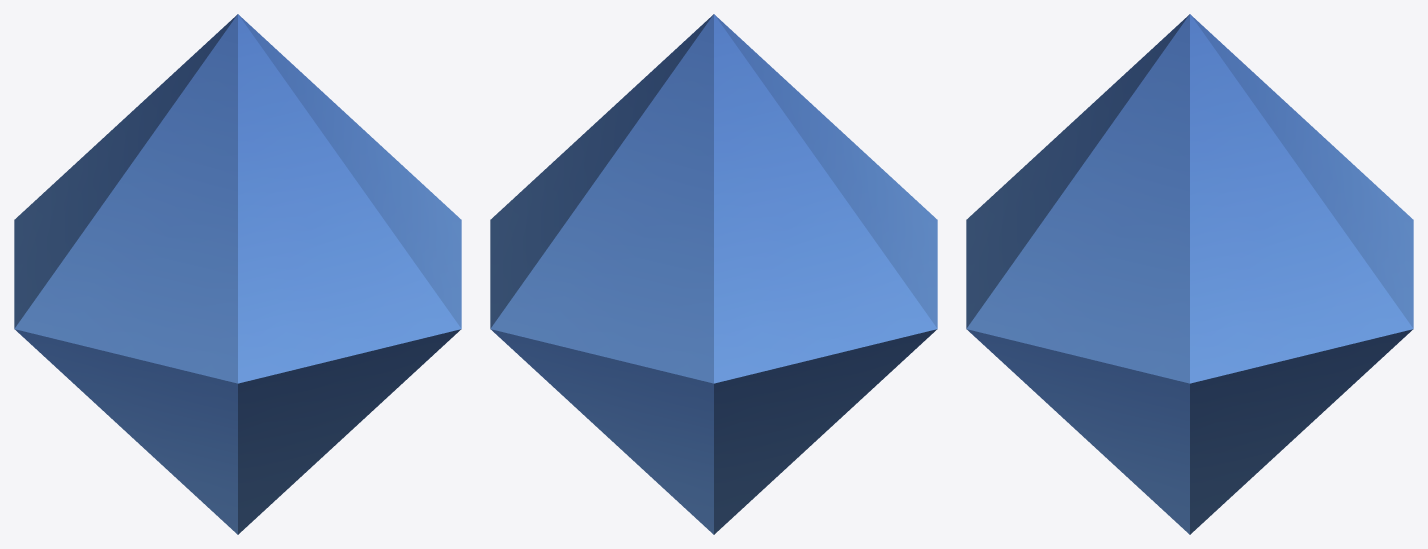
Rendered from jewel.glb.
The picture shows the model from 3 angles, left to right: view 1: azimuth 30°, elevation 25°; view 2: azimuth 150°, elevation 25°; view 3: azimuth 270°, elevation 25°; orthographic projection.
Parts seen in each view (by area): view 1: jewel; view 2: jewel; view 3: jewel.
Boxes of the visible parts, bbox=[...] form: jewel: bbox=[14, 14, 461, 534]; jewel: bbox=[490, 14, 937, 534]; jewel: bbox=[966, 14, 1413, 534].
Bounding box in the file's own units: 0.3329 × 0.3705 × 0.2883.
1 material, 1 textured.
